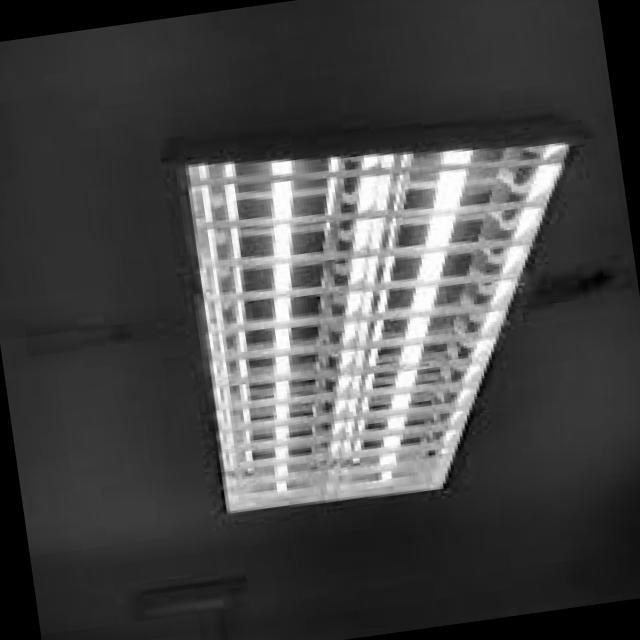light: (160, 116, 591, 515)
